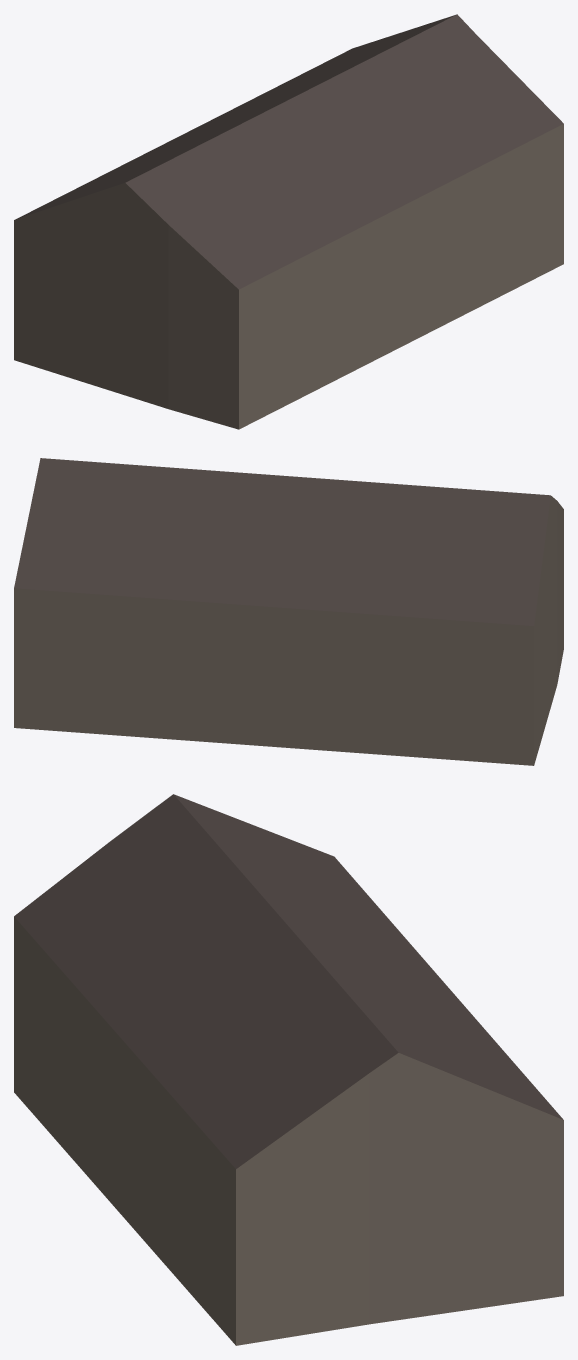
3 views of the same model, one above another, from view 1: azimuth 30°, elevation 25°; view 2: azimuth 150°, elevation 25°; view 3: azimuth 270°, elevation 25° (orthographic). The views are drawn at different scales.
Parts seen in each view (by area): view 1: HP-w1516733017; view 2: HP-w1516733017; view 3: HP-w1516733017.
Part boxes in pixels (x1,y1,x2,y2): HP-w1516733017: [14, 14, 563, 429]; HP-w1516733017: [14, 458, 563, 765]; HP-w1516733017: [14, 794, 563, 1345].
Bounding box in the file's own units: 22.92 × 9.12 × 17.
